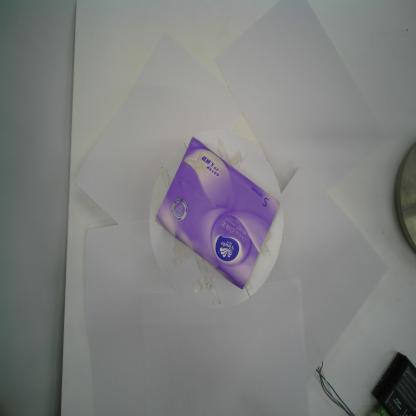Tissue: (153, 134, 284, 293)
